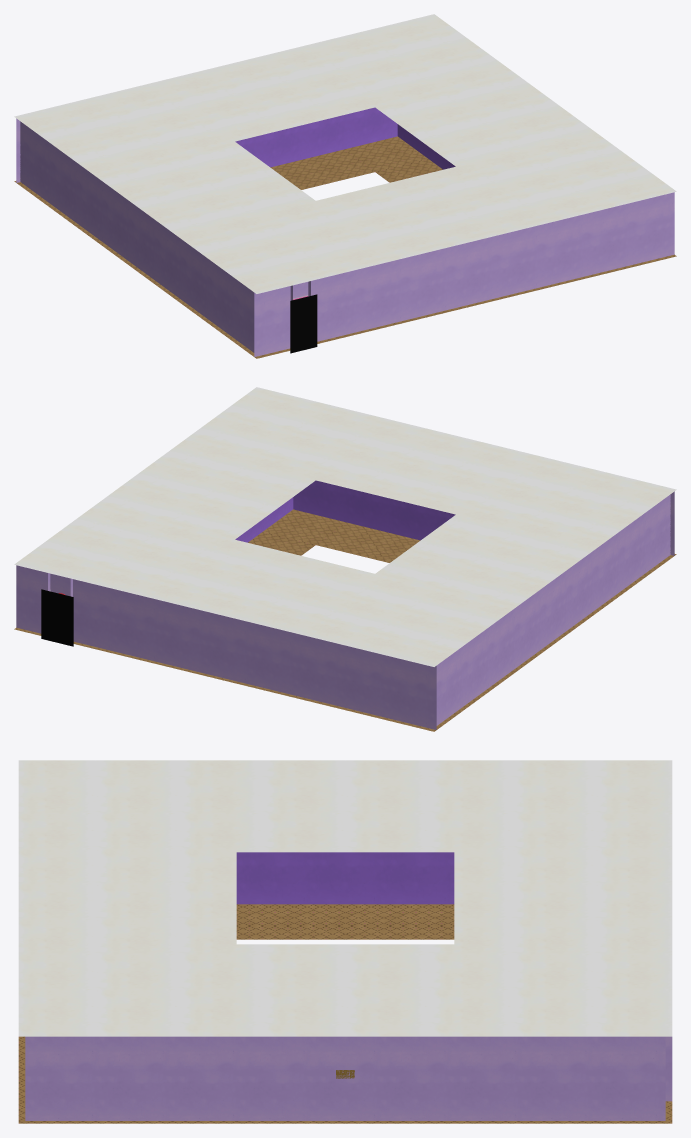
Rendered from rdwe_bending_hall.glb.
3 views of the same model, one above another, from view 1: azimuth 30°, elevation 25°; view 2: azimuth 150°, elevation 25°; view 3: azimuth 270°, elevation 25° (orthographic). The views are drawn at different scales.
Visible parts, largest first — view 1: Ceil_Plaster, Wall_Lilac, Floor_Tan, Wall_Violet, Void; view 2: Ceil_Plaster, Wall_Lilac, Floor_Tan, Wall_Violet, Void; view 3: Ceil_Plaster, Wall_Lilac, Wall_Violet, Floor_Tan.
Part boxes in pixels (box(x1,y1,x2,y2)): Ceil_Plaster: box(14, 14, 676, 293); Wall_Lilac: box(16, 118, 674, 356); Floor_Tan: box(14, 136, 676, 358); Wall_Violet: box(235, 107, 455, 169); Void: box(290, 294, 317, 353); Ceil_Plaster: box(14, 387, 676, 666); Wall_Lilac: box(16, 491, 674, 729); Floor_Tan: box(14, 509, 676, 731); Wall_Violet: box(235, 480, 455, 542); Void: box(41, 589, 73, 646); Ceil_Plaster: box(18, 760, 672, 1036); Wall_Lilac: box(25, 1036, 672, 1120); Wall_Violet: box(236, 852, 454, 904); Floor_Tan: box(18, 904, 672, 1123).
Size of the model in its own units: 20.4 by 3.05 by 20.7.
22 materials, 15 textured.
